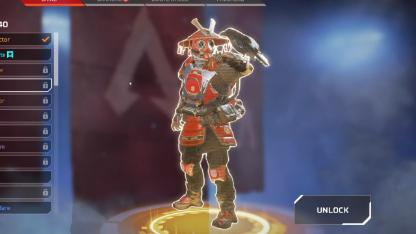Target: (178, 18, 230, 208)
